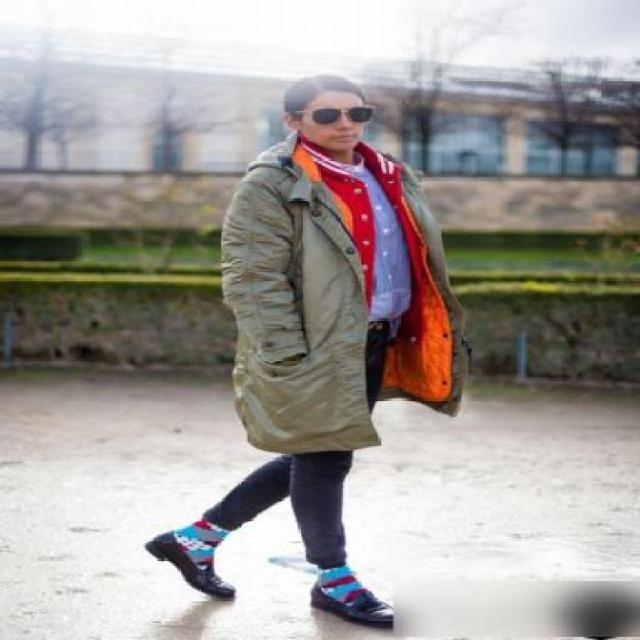Person: (143, 66, 508, 639)
